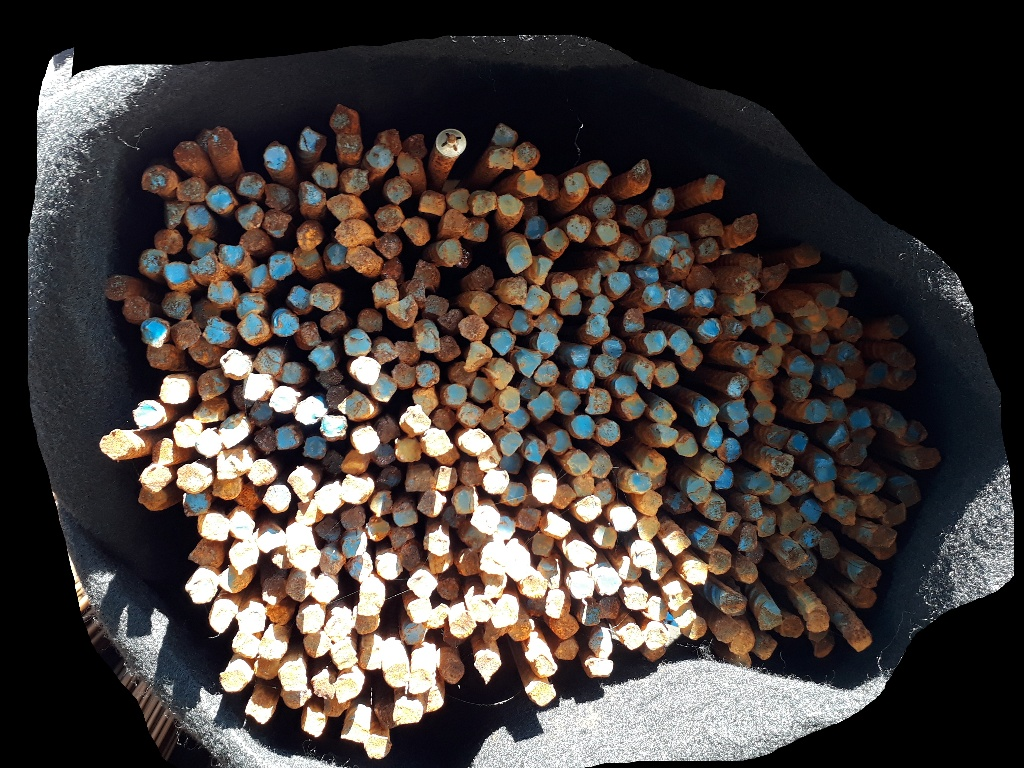dipstick: (334, 218, 373, 247), (346, 247, 383, 277), (339, 392, 374, 421), (461, 340, 493, 371), (385, 298, 419, 327), (422, 427, 455, 456), (99, 430, 130, 460), (243, 264, 275, 293), (132, 401, 165, 429), (137, 465, 172, 491), (217, 450, 252, 476), (287, 467, 317, 497), (406, 568, 437, 597), (310, 283, 342, 311), (139, 248, 168, 278), (253, 348, 283, 377), (161, 291, 192, 319), (457, 314, 488, 342), (524, 680, 556, 707), (268, 385, 297, 414), (206, 134, 236, 162), (237, 313, 267, 341), (159, 378, 189, 406), (176, 465, 206, 493), (405, 465, 435, 493), (471, 505, 501, 533), (370, 338, 401, 365), (373, 276, 400, 307), (244, 374, 276, 400), (537, 556, 562, 589), (236, 202, 265, 230), (171, 321, 200, 349), (401, 216, 429, 245), (499, 277, 528, 305), (505, 244, 533, 273), (199, 515, 229, 542), (256, 526, 286, 553), (277, 665, 307, 692), (220, 415, 247, 445), (351, 424, 378, 454), (412, 384, 439, 414), (402, 405, 432, 432), (562, 170, 589, 200), (138, 484, 169, 510), (288, 545, 320, 570), (880, 405, 905, 437), (194, 428, 222, 456), (296, 222, 324, 250), (335, 133, 363, 161), (221, 351, 250, 378), (374, 552, 403, 579), (575, 494, 602, 523), (197, 374, 227, 400), (172, 421, 202, 447), (246, 698, 276, 724), (394, 699, 424, 725), (153, 230, 184, 255), (185, 579, 216, 604), (192, 401, 227, 423), (142, 169, 174, 193), (264, 485, 291, 513), (296, 498, 324, 525), (309, 346, 336, 374), (419, 490, 447, 517), (229, 545, 258, 571), (296, 606, 322, 635), (340, 718, 369, 744), (529, 391, 555, 420), (284, 576, 314, 601), (515, 348, 540, 378), (328, 107, 359, 131), (462, 430, 493, 454), (191, 545, 223, 568), (230, 635, 262, 658), (146, 342, 173, 369), (315, 486, 342, 513), (513, 142, 540, 169), (594, 218, 621, 245), (795, 240, 822, 267), (818, 363, 845, 390), (217, 244, 245, 270), (201, 318, 229, 344), (248, 460, 276, 486), (347, 555, 373, 583), (437, 130, 465, 156), (566, 215, 592, 243), (626, 159, 652, 187), (686, 264, 714, 290), (764, 263, 790, 291), (401, 277, 426, 306), (374, 415, 398, 445), (549, 615, 579, 639), (527, 256, 551, 286), (789, 294, 819, 318), (263, 211, 289, 238), (267, 254, 294, 280), (194, 300, 220, 327), (312, 577, 339, 603), (340, 476, 367, 502), (299, 182, 326, 208), (311, 162, 338, 188), (406, 596, 432, 623), (301, 711, 328, 737), (449, 613, 476, 639), (385, 177, 412, 203), (457, 402, 484, 428), (531, 477, 557, 504), (522, 287, 549, 313), (551, 272, 578, 298), (777, 508, 803, 535), (191, 256, 219, 281), (273, 310, 298, 338), (151, 438, 176, 466), (298, 128, 326, 153), (327, 194, 355, 219), (520, 573, 548, 598), (545, 591, 570, 619), (162, 260, 191, 284), (239, 229, 268, 253), (438, 238, 462, 267), (567, 543, 596, 567), (785, 470, 814, 494), (850, 471, 879, 495), (447, 361, 477, 384), (371, 376, 397, 402), (392, 363, 418, 389), (391, 502, 417, 528), (333, 677, 359, 703), (471, 189, 497, 215), (435, 335, 461, 361), (516, 170, 542, 196), (585, 162, 611, 188), (916, 446, 942, 472), (141, 320, 166, 347), (237, 293, 264, 318), (227, 513, 254, 538), (220, 568, 247, 593), (365, 734, 392, 759), (371, 702, 398, 727), (470, 292, 497, 317), (489, 328, 514, 355), (585, 387, 610, 414), (650, 235, 677, 260), (781, 545, 808, 570), (832, 501, 859, 526), (901, 418, 928, 443), (208, 282, 236, 306), (121, 297, 149, 321), (412, 260, 440, 284), (455, 548, 479, 576), (490, 123, 518, 147), (588, 630, 612, 658), (213, 476, 242, 499), (373, 234, 402, 257), (365, 144, 394, 167), (693, 287, 716, 316), (662, 531, 691, 554), (580, 265, 602, 295), (262, 146, 287, 172), (264, 185, 290, 210), (105, 277, 131, 302), (234, 483, 260, 508), (395, 341, 421, 366), (356, 591, 382, 616), (440, 659, 465, 685), (470, 375, 495, 401), (595, 420, 620, 446), (665, 285, 690, 311), (668, 330, 693, 356), (735, 213, 760, 239), (757, 604, 783, 629), (752, 633, 777, 659), (190, 339, 214, 366), (320, 548, 344, 575), (253, 426, 277, 453), (352, 609, 379, 633), (325, 612, 349, 639), (423, 533, 450, 557), (463, 521, 487, 548), (571, 413, 595, 440), (734, 268, 761, 292), (182, 492, 210, 515), (303, 634, 331, 657), (187, 236, 217, 257), (324, 245, 349, 270), (384, 661, 409, 686), (433, 465, 458, 490), (343, 168, 368, 193), (687, 478, 712, 503), (836, 317, 861, 342), (184, 207, 210, 231), (263, 577, 287, 603), (343, 533, 367, 559), (483, 469, 509, 493), (643, 595, 667, 621), (716, 438, 742, 462), (177, 180, 204, 203), (206, 189, 233, 212), (427, 550, 454, 573), (474, 652, 501, 675), (860, 495, 887, 518), (219, 671, 247, 693), (400, 543, 422, 571), (401, 623, 429, 645), (701, 425, 723, 453), (732, 342, 760, 364), (632, 361, 653, 390), (739, 521, 758, 553), (235, 613, 265, 633), (280, 688, 310, 708), (302, 436, 327, 460), (295, 399, 319, 424), (369, 492, 393, 517), (407, 669, 432, 693), (417, 687, 442, 711), (375, 205, 400, 229), (419, 193, 444, 217), (442, 208, 467, 232), (533, 653, 558, 677), (606, 271, 631, 295), (620, 625, 644, 650), (638, 491, 663, 515), (672, 603, 697, 627), (723, 315, 747, 340), (890, 344, 915, 368), (806, 606, 830, 631), (825, 425, 849, 450), (211, 608, 234, 634), (315, 519, 341, 542), (296, 322, 319, 348), (321, 310, 347, 333), (396, 437, 422, 460), (447, 187, 470, 213), (497, 386, 520, 412), (531, 532, 554, 558), (683, 561, 709, 584), (172, 143, 199, 165), (237, 176, 264, 198), (320, 417, 347, 439), (414, 363, 441, 385), (748, 472, 775, 494), (317, 368, 345, 389), (533, 311, 561, 332), (360, 646, 384, 670), (567, 451, 591, 475), (586, 313, 610, 337), (632, 543, 656, 567), (166, 203, 189, 228), (254, 658, 279, 681), (370, 442, 395, 465), (442, 383, 467, 406), (453, 490, 478, 513), (503, 482, 526, 507), (524, 438, 547, 463), (508, 309, 533, 332), (536, 331, 561, 354), (611, 509, 636, 532), (593, 526, 618, 549), (650, 188, 675, 211), (667, 586, 692, 609), (842, 441, 867, 464), (897, 484, 922, 507), (339, 507, 365, 529), (332, 646, 358, 668), (467, 601, 493, 623), (472, 265, 494, 291), (437, 308, 463, 330), (497, 193, 523, 215), (627, 472, 653, 494), (681, 618, 707, 640), (715, 620, 741, 642), (778, 616, 804, 638), (552, 482, 573, 509), (766, 322, 793, 343), (888, 370, 916, 390), (326, 385, 349, 409), (426, 603, 449, 627), (481, 406, 504, 430), (499, 432, 523, 455), (547, 430, 571, 453), (535, 361, 558, 385), (543, 228, 567, 251), (593, 195, 616, 219), (592, 354, 616, 377), (620, 395, 644, 418), (644, 332, 667, 356), (670, 250, 694, 273), (707, 549, 730, 573), (730, 631, 754, 654), (726, 375, 749, 399), (749, 305, 773, 328), (813, 458, 837, 481), (323, 697, 352, 716), (345, 333, 370, 355), (395, 153, 420, 175), (505, 408, 530, 430), (590, 454, 612, 479), (489, 148, 514, 170), (640, 453, 665, 475), (703, 174, 725, 199), (788, 357, 813, 379), (389, 526, 415, 547), (312, 673, 333, 699), (493, 302, 514, 328), (650, 403, 676, 424), (700, 216, 726, 237), (753, 357, 779, 378), (585, 657, 612, 677), (879, 504, 906, 524), (357, 362, 380, 385), (508, 617, 531, 640), (517, 507, 540, 530), (557, 391, 580, 414), (695, 527, 718, 550), (719, 512, 742, 535), (836, 340, 859, 363), (319, 453, 343, 475), (432, 408, 456, 430), (494, 602, 518, 624), (494, 515, 516, 539), (547, 517, 571, 539), (593, 480, 615, 504), (523, 215, 545, 239), (637, 518, 661, 540), (623, 206, 647, 228), (771, 453, 795, 475), (264, 604, 289, 625), (280, 361, 305, 382), (622, 589, 647, 610), (653, 424, 678, 445), (732, 294, 757, 315), (756, 511, 776, 537), (292, 247, 319, 266), (274, 427, 296, 450), (250, 403, 273, 425), (365, 517, 387, 540), (417, 330, 440, 352), (425, 294, 448, 316), (618, 238, 640, 261), (569, 345, 591, 368), (649, 557, 672, 579), (735, 560, 757, 583), (698, 239, 720, 262), (788, 378, 811, 400), (847, 408, 870, 430), (358, 310, 382, 331), (437, 580, 461, 601), (570, 577, 594, 598), (646, 626, 667, 650), (669, 492, 693, 513), (825, 307, 849, 328), (848, 631, 872, 652), (588, 294, 613, 314), (597, 575, 622, 595), (767, 484, 792, 504), (839, 271, 858, 297), (462, 462, 484, 484), (698, 318, 720, 340), (705, 499, 727, 521), (864, 361, 886, 383), (289, 287, 310, 310), (571, 474, 594, 495), (596, 251, 619, 272), (560, 294, 583, 315), (655, 366, 678, 387), (644, 218, 667, 239), (693, 405, 716, 426), (723, 592, 746, 613), (741, 495, 762, 518), (726, 400, 749, 421), (885, 315, 908, 336), (806, 401, 829, 422), (752, 403, 775, 424), (799, 501, 822, 522), (540, 176, 560, 200), (700, 460, 724, 480), (804, 311, 828, 331), (810, 331, 830, 355), (442, 506, 467, 525), (482, 569, 507, 588), (613, 375, 638, 394), (634, 265, 659, 284), (815, 288, 840, 307), (873, 527, 898, 546), (520, 377, 541, 399), (580, 603, 601, 625), (599, 597, 620, 619), (619, 557, 640, 579), (642, 285, 664, 306), (681, 346, 703, 367), (860, 565, 881, 587), (407, 133, 427, 156), (751, 381, 774, 401), (801, 525, 821, 548), (500, 454, 524, 473), (797, 556, 816, 580), (380, 467, 402, 487), (470, 220, 490, 242), (676, 436, 698, 456), (787, 432, 809, 452), (555, 640, 579, 658), (857, 587, 877, 608), (572, 369, 594, 388), (623, 313, 645, 332), (818, 540, 840, 559), (814, 481, 836, 500), (602, 339, 623, 358), (714, 468, 733, 489), (436, 447, 459, 464), (483, 620, 507, 636), (272, 550, 292, 569), (478, 452, 498, 471), (764, 345, 783, 365), (828, 401, 848, 420), (874, 543, 897, 559), (377, 128, 398, 145), (814, 640, 833, 658), (359, 634, 383, 648), (747, 544, 764, 563), (739, 254, 762, 268), (728, 421, 750, 435), (835, 383, 857, 397), (232, 385, 245, 408), (808, 629, 830, 642), (673, 234, 692, 247), (457, 247, 469, 267), (651, 474, 667, 489)
